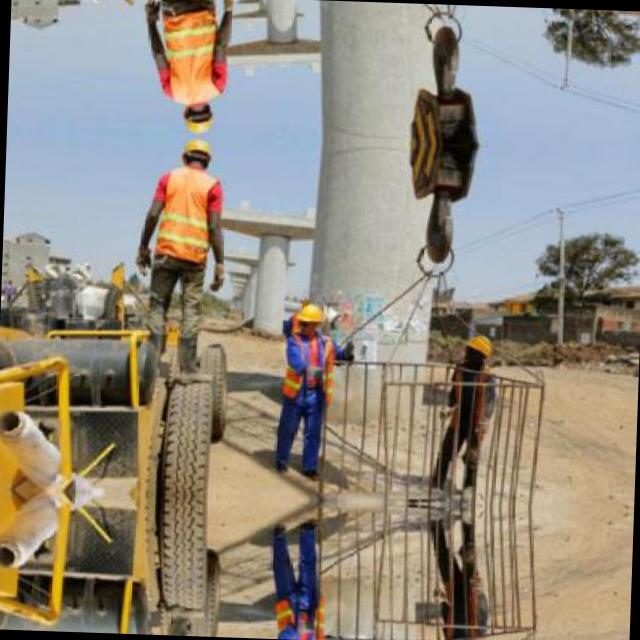helmet: (293, 298, 325, 338), (178, 137, 212, 172), (179, 100, 213, 135), (461, 331, 491, 366)
